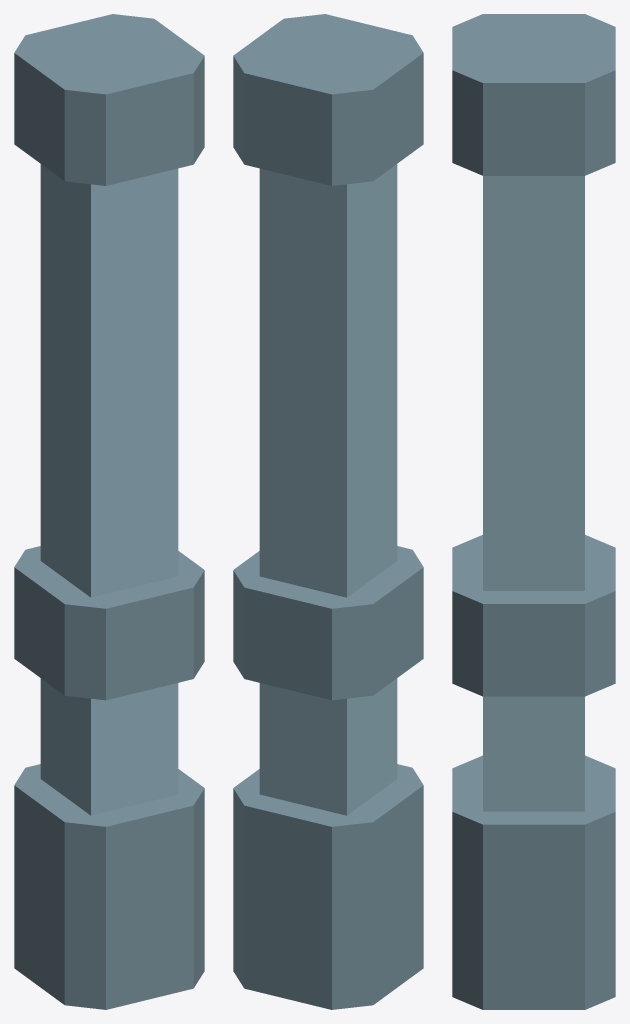
The model's file is pillarStone.fbx.
3 views of the same model, side by side, from view 1: azimuth 30°, elevation 25°; view 2: azimuth 150°, elevation 25°; view 3: azimuth 270°, elevation 25° (orthographic).
Parts seen in each view (by area): view 1: pillarStone; view 2: pillarStone; view 3: pillarStone.
Part boxes in pixels (left/top/right/bottom): pillarStone: left=14, top=14, right=204, bottom=1009; pillarStone: left=233, top=14, right=423, bottom=1009; pillarStone: left=452, top=14, right=615, bottom=1009.
Size of the model in its own units: 1.6 by 10 by 1.6.
